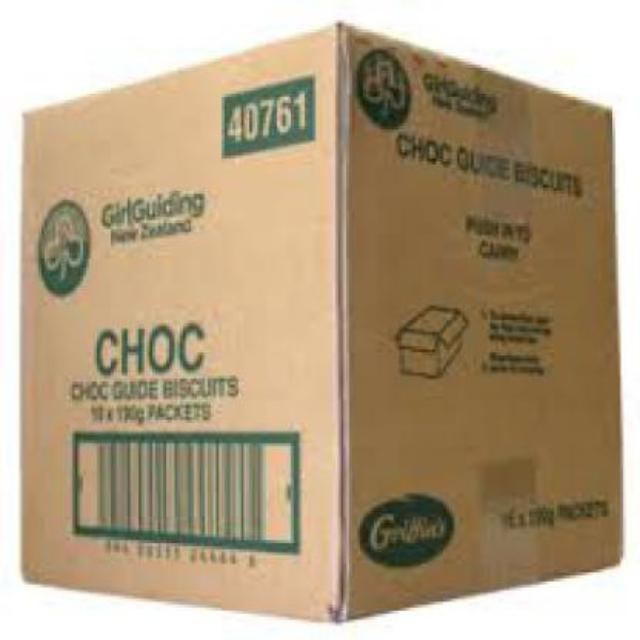cardboard_box: (9, 9, 636, 635)
